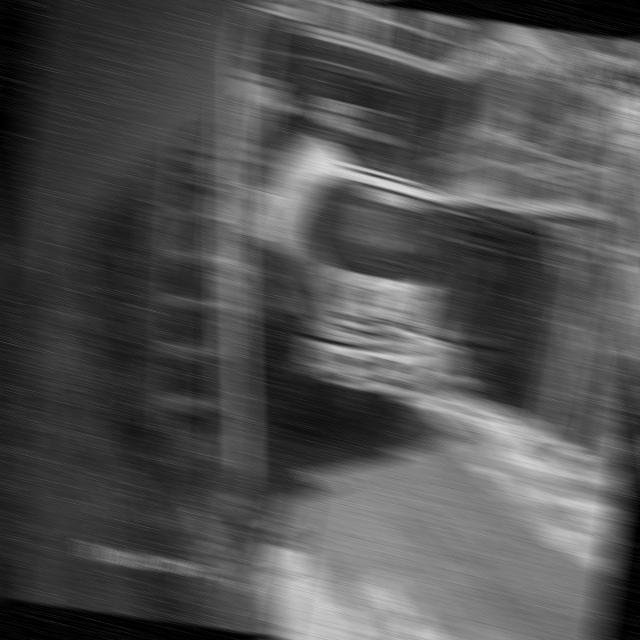cement_mixer_truck: (238, 128, 456, 428)
